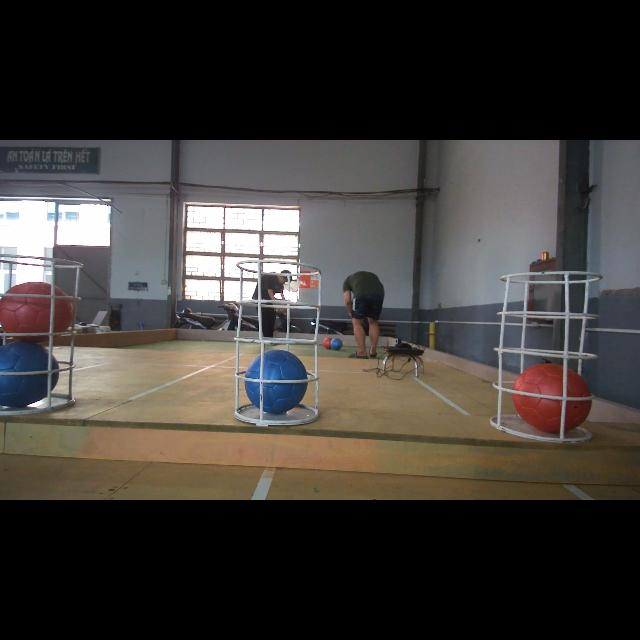B: (245, 349, 309, 416), (0, 342, 58, 408)
R: (514, 362, 592, 436), (0, 280, 76, 340)
